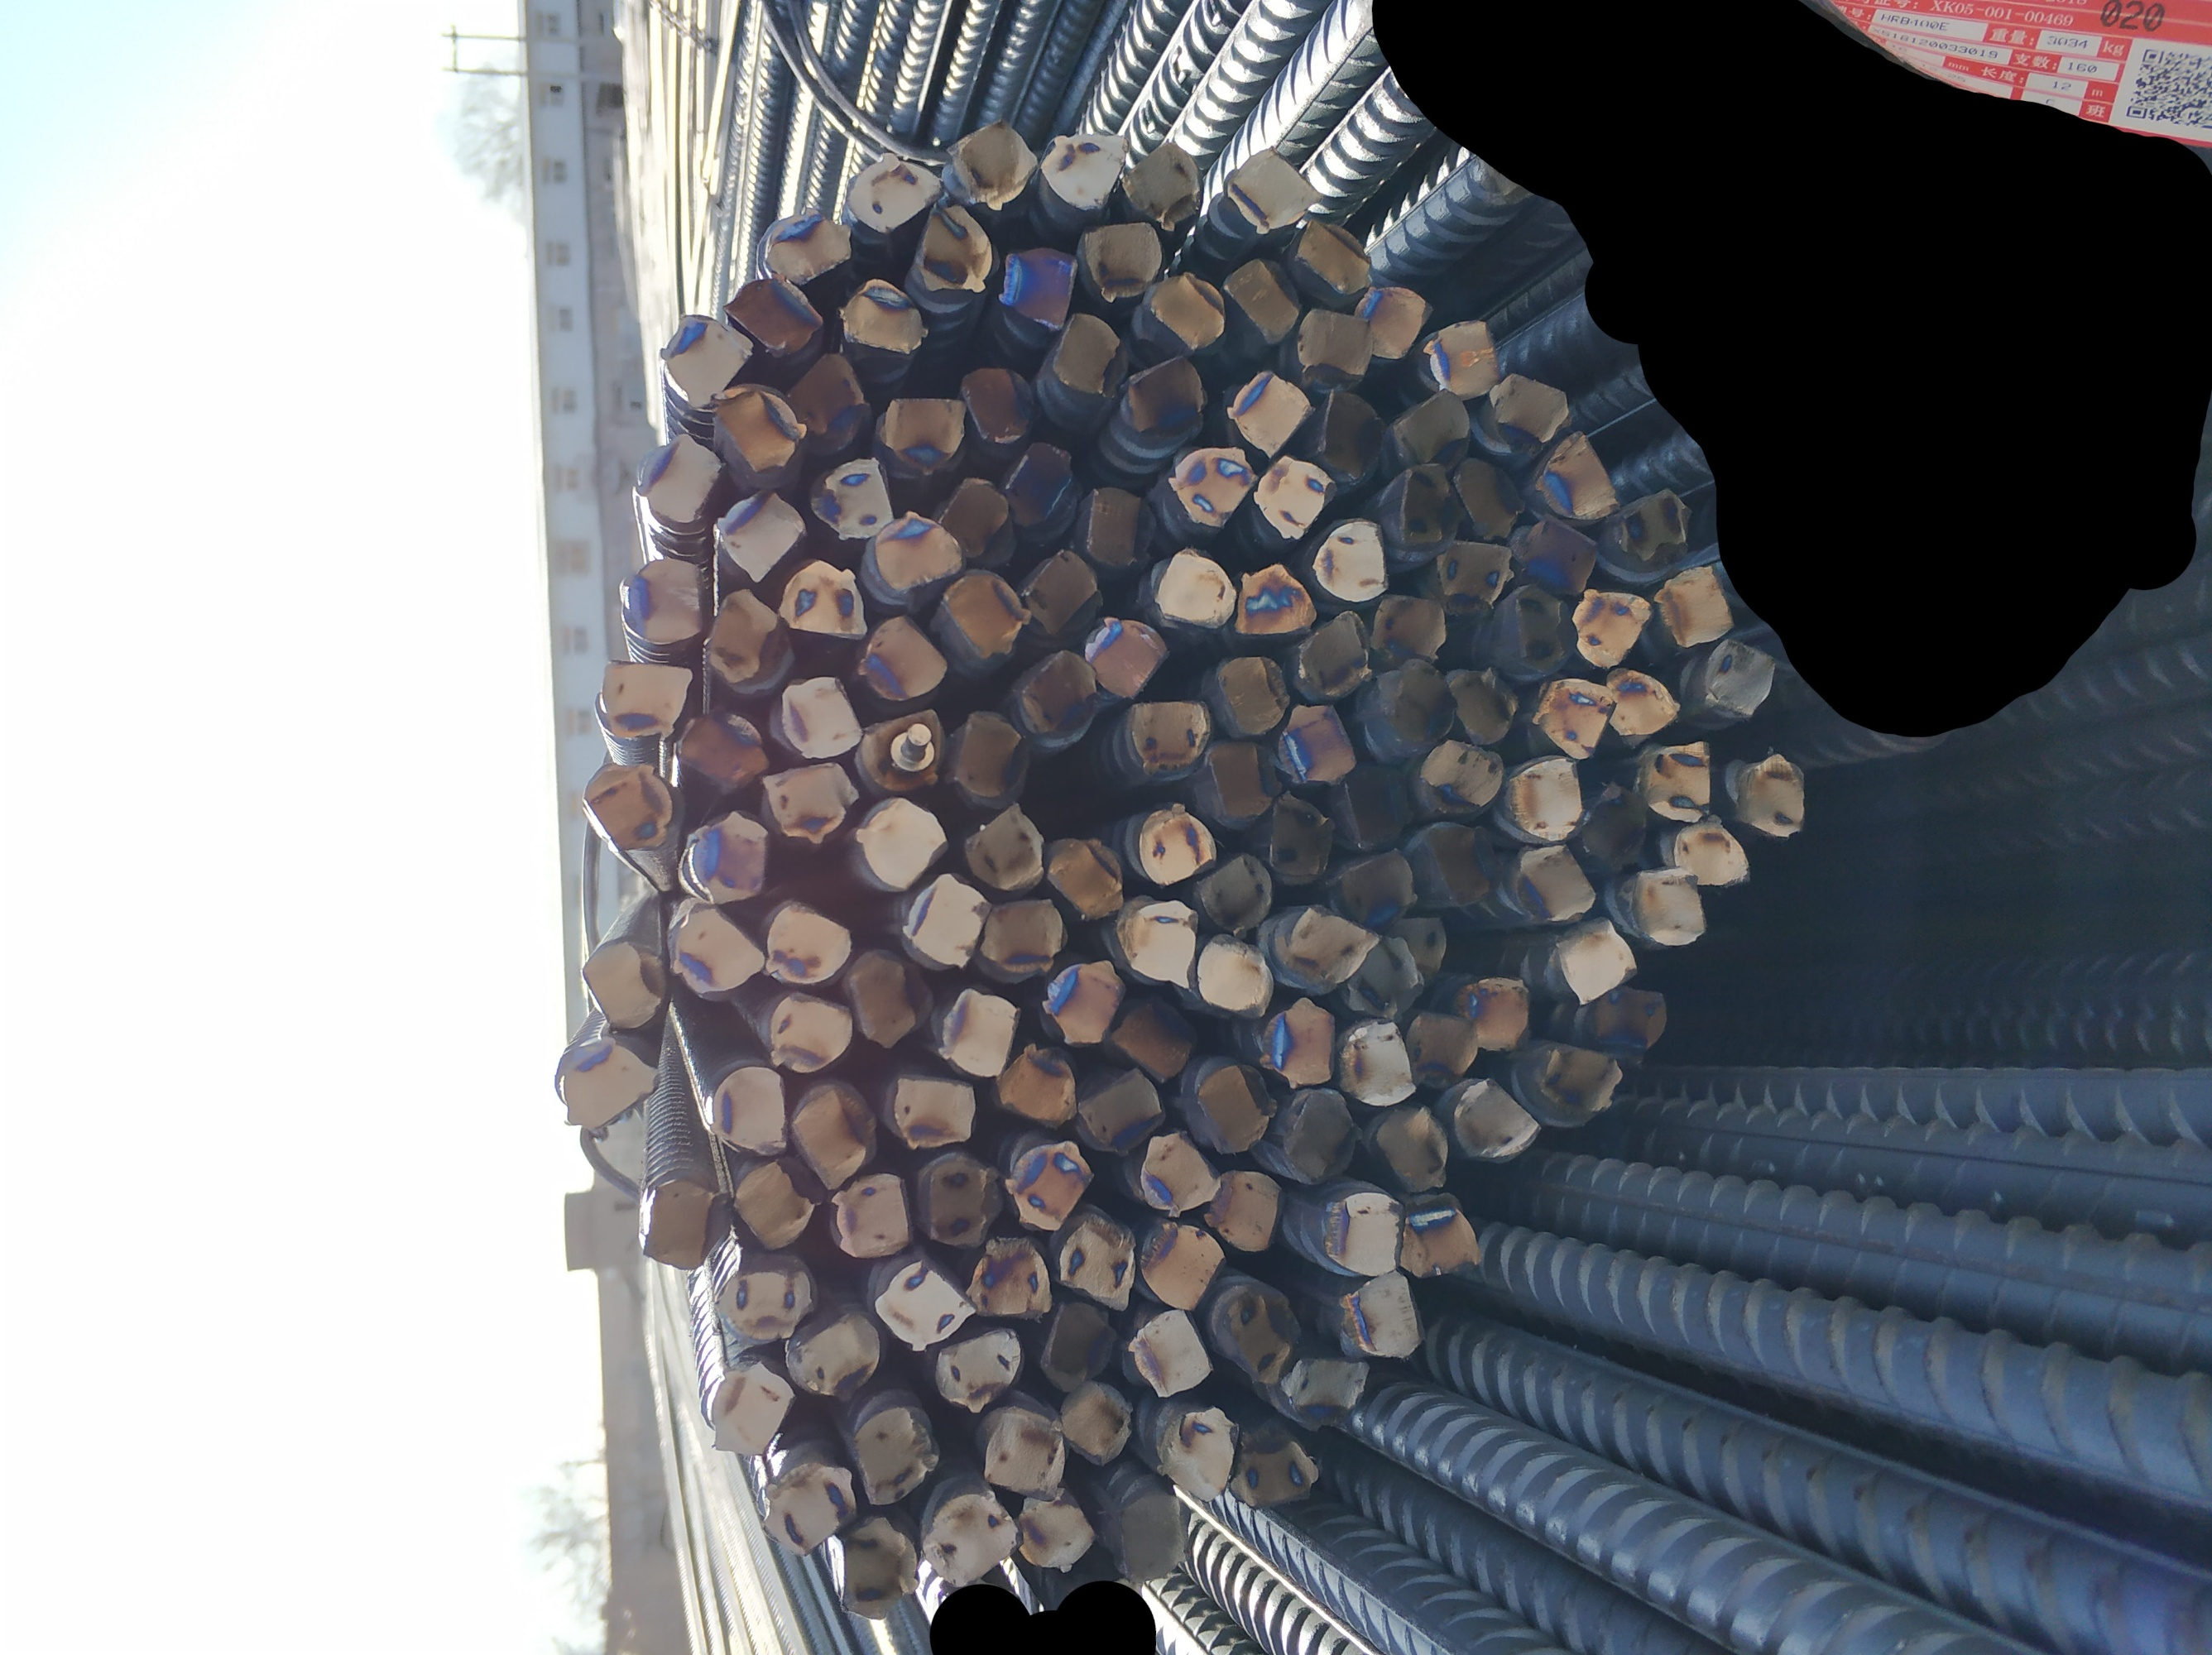rebar: (789, 1080, 883, 1196), (758, 1459, 862, 1558), (1265, 901, 1381, 989), (825, 1514, 923, 1620), (558, 1034, 662, 1132), (921, 1490, 1020, 1591), (871, 1257, 975, 1353), (714, 482, 806, 589), (667, 901, 766, 1000), (1003, 1133, 1098, 1236), (660, 309, 758, 409), (897, 869, 987, 974), (853, 796, 949, 894), (843, 946, 935, 1047), (1223, 144, 1324, 236), (782, 351, 871, 455), (699, 593, 787, 695), (853, 1403, 938, 1507), (841, 151, 945, 236), (709, 381, 805, 473), (1395, 1189, 1487, 1285), (719, 275, 822, 360), (579, 760, 672, 852), (1036, 956, 1131, 1047), (785, 1314, 886, 1399), (759, 760, 860, 845), (619, 555, 711, 647), (700, 1064, 791, 1158), (683, 810, 773, 904), (949, 116, 1037, 212), (1164, 442, 1260, 530), (1213, 1283, 1298, 1382), (712, 1358, 796, 1459), (857, 610, 947, 702), (777, 673, 871, 761), (676, 708, 770, 796), (1223, 365, 1312, 459), (732, 1156, 817, 1253), (1124, 1306, 1213, 1398), (1138, 1219, 1227, 1311), (763, 897, 855, 986), (632, 431, 721, 523), (1552, 916, 1640, 1008), (980, 1405, 1065, 1500), (638, 1175, 721, 1273), (938, 982, 1022, 1080), (930, 1325, 1020, 1413), (961, 801, 1050, 892), (945, 568, 1032, 661), (601, 657, 695, 742), (1195, 1064, 1281, 1158), (1037, 1300, 1121, 1396), (1055, 1215, 1135, 1314), (580, 940, 667, 1031), (858, 708, 949, 794), (963, 1236, 1055, 1321), (778, 560, 871, 645), (1451, 1078, 1543, 1163), (1084, 610, 1168, 704), (1157, 1405, 1239, 1500), (1279, 1090, 1359, 1187), (1123, 897, 1201, 996), (714, 1269, 815, 1346), (1079, 1067, 1168, 1154), (1253, 452, 1338, 542), (1538, 428, 1619, 522), (1135, 800, 1222, 887), (1138, 1128, 1227, 1213), (1112, 996, 1201, 1081), (766, 987, 855, 1073), (805, 454, 893, 539), (1037, 130, 1128, 214), (1117, 1490, 1192, 1591), (994, 1040, 1076, 1132), (1124, 137, 1206, 229), (1149, 546, 1235, 631), (1534, 673, 1616, 763), (1048, 833, 1128, 925), (1374, 657, 1453, 751), (982, 895, 1069, 979), (1371, 1104, 1453, 1193), (761, 207, 851, 287), (1020, 647, 1098, 739), (1573, 779, 1649, 873), (1529, 1040, 1623, 1116), (1340, 1271, 1423, 1356), (876, 509, 964, 589), (1022, 546, 1102, 635), (1222, 256, 1301, 344), (1505, 753, 1585, 841), (1581, 982, 1670, 1062), (1258, 996, 1336, 1087), (1414, 737, 1507, 814), (917, 203, 992, 297), (1081, 221, 1164, 304), (1652, 563, 1736, 647), (883, 393, 968, 475), (1571, 586, 1652, 671), (1312, 516, 1392, 603), (1204, 737, 1284, 824), (832, 1172, 911, 1260), (1701, 635, 1779, 723), (1298, 608, 1374, 699), (1145, 269, 1227, 353), (997, 247, 1079, 330), (1487, 369, 1571, 450), (1515, 840, 1600, 920), (1343, 932, 1423, 1017), (1420, 821, 1498, 907), (1338, 1019, 1416, 1106), (1229, 1432, 1317, 1509), (1512, 579, 1583, 673), (1279, 704, 1359, 788), (839, 278, 926, 355), (1197, 850, 1274, 937), (1646, 737, 1720, 826), (893, 1071, 975, 1151), (1425, 316, 1503, 400), (1333, 843, 1411, 927), (1328, 1191, 1406, 1274), (1206, 1168, 1284, 1252), (1050, 309, 1124, 396), (1284, 1353, 1371, 1427), (1126, 353, 1204, 435), (1630, 864, 1708, 946), (1522, 513, 1599, 596), (926, 1153, 994, 1246), (1004, 438, 1077, 525), (1232, 560, 1319, 633), (1218, 652, 1291, 739), (1340, 758, 1411, 847), (954, 708, 1023, 798), (1673, 810, 1752, 890), (1453, 975, 1531, 1055), (1128, 699, 1209, 775), (1743, 749, 1811, 841), (1194, 930, 1268, 1014), (1453, 454, 1524, 541), (1319, 388, 1383, 483), (1018, 1495, 1096, 1573), (1296, 217, 1374, 296), (1086, 483, 1156, 570), (1394, 389, 1470, 468), (1268, 791, 1334, 881), (959, 367, 1036, 443), (1354, 285, 1430, 362), (1602, 664, 1679, 741), (1437, 535, 1515, 610), (1402, 1010, 1477, 1088), (1062, 1384, 1133, 1466), (940, 475, 1008, 560), (1296, 302, 1373, 377), (1369, 593, 1447, 666), (1619, 485, 1692, 560), (1451, 666, 1515, 744), (1399, 461, 1454, 548), (1390, 911, 1449, 989)
